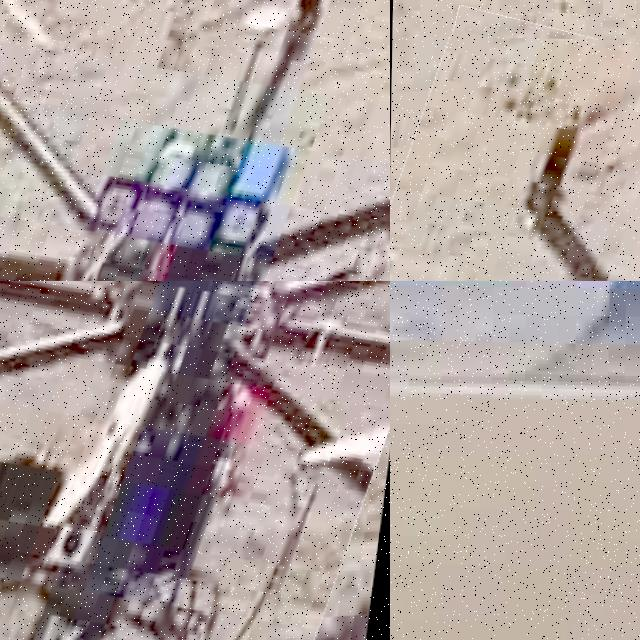drone: (0, 281, 390, 640), (0, 0, 390, 281), (390, 35, 640, 281)
